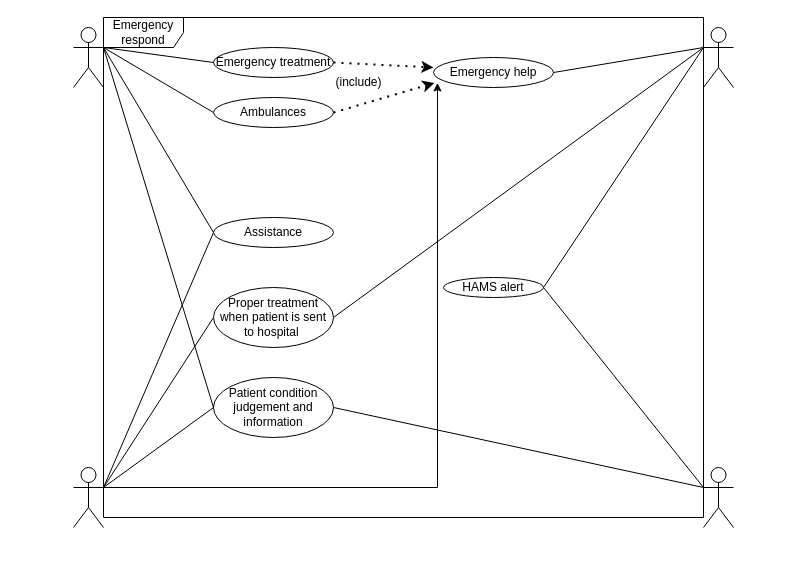
Some shapes in this 795 by 566 pixel diagram are drawn without their labels. Each missing label, with the box of its shape:
Emergency responder: (702, 466, 734, 528)
Patient: (702, 26, 734, 88)
People for emergency help: (72, 26, 104, 88)
Social workers: (72, 466, 104, 528)
